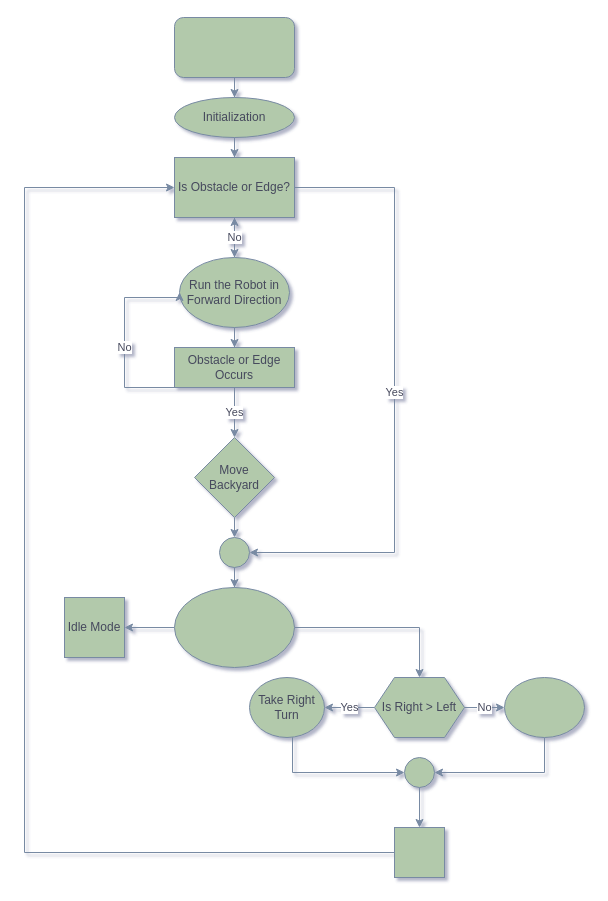
The diagram is 608 pixels wide and 901 high, and some of its shapes have lost their labels. Each missing label, with the centre of its shape:
"Measure Distance" belongs at point (234, 627).
"START" belongs at point (234, 47).
"Stof if Power is Down" belongs at point (419, 852).
"Take Left Turn" belongs at point (544, 707).
